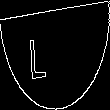L_N: (45, 28, 65, 82)
